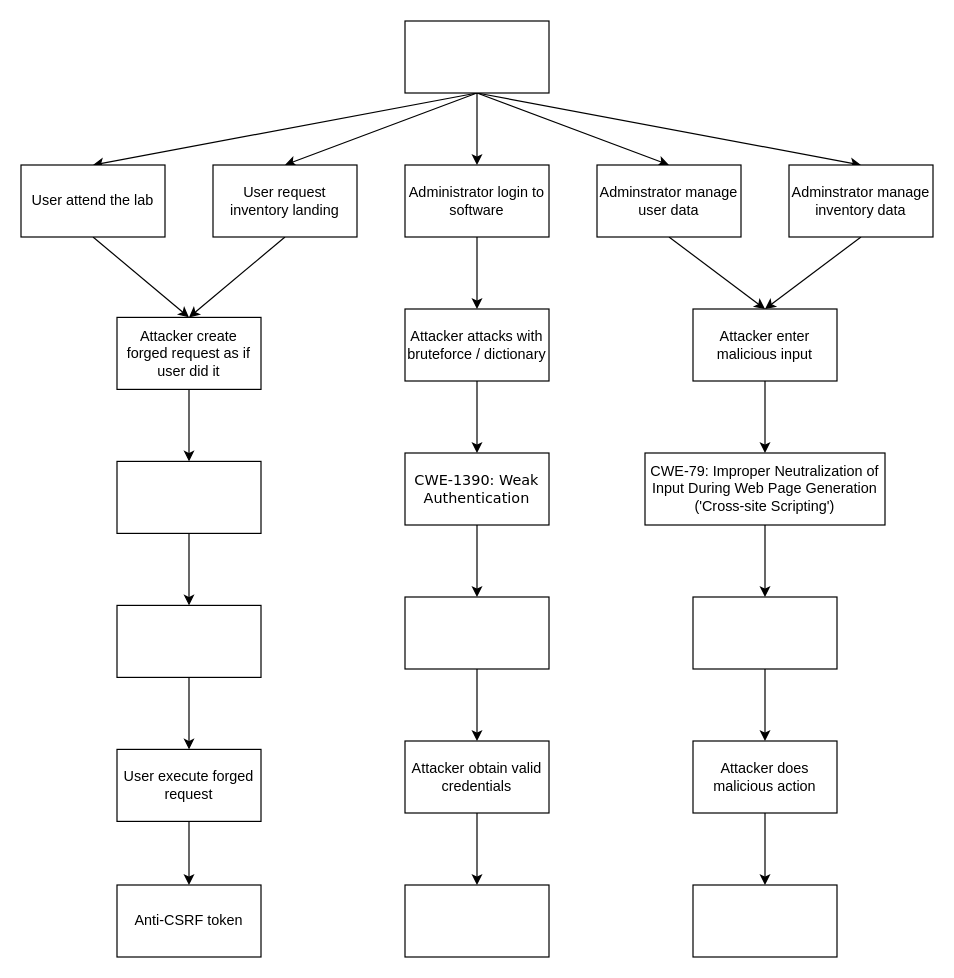
Image size: 954x978. Some labels were removed from this diagram. The centre of each missing label's shape, as x and y in pixels:
CAPEC-49: Password Brute Forcing: (476,632)
CAPEC-592: Stored XSS: (764,632)
CAPEC-62: Cross Site Request Forgery: (188,640)
CWE-352: Cross-Site Request Forgery (CSRF): (188,496)
I/O cleansing and validation: (764,920)
Lab Management Software: (476,56)
Strong password policy: (476,920)
